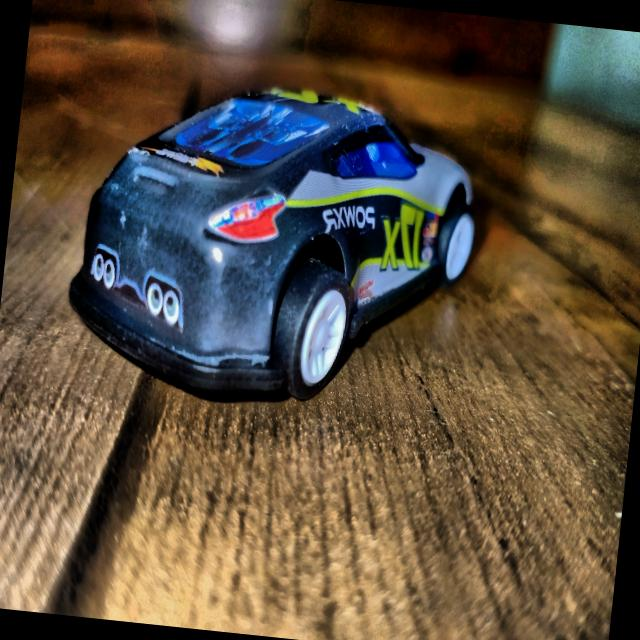Car: (61, 72, 487, 416)
